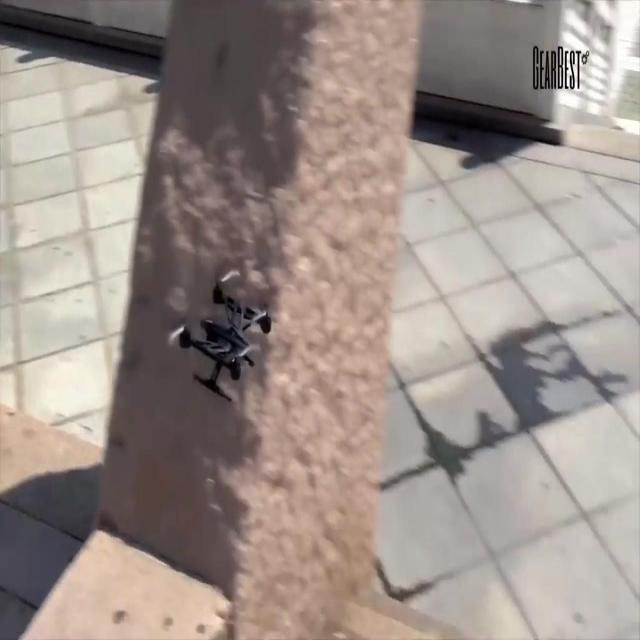UAV: (180, 270, 272, 401)
